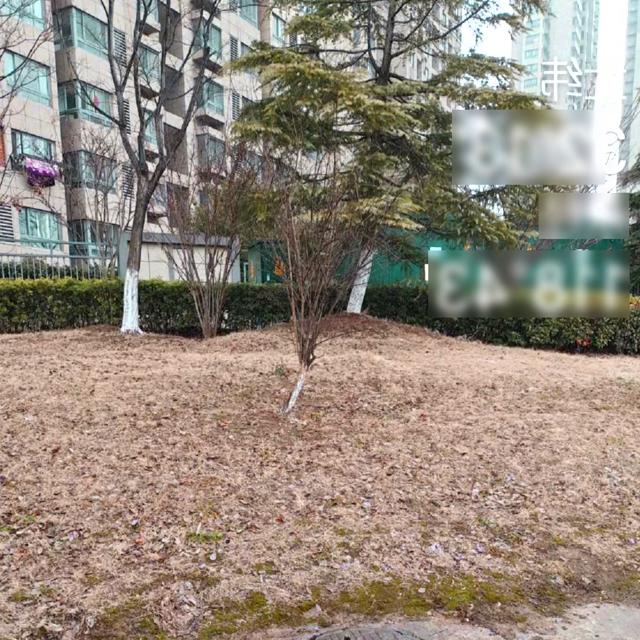circle: (276, 621, 465, 640)
